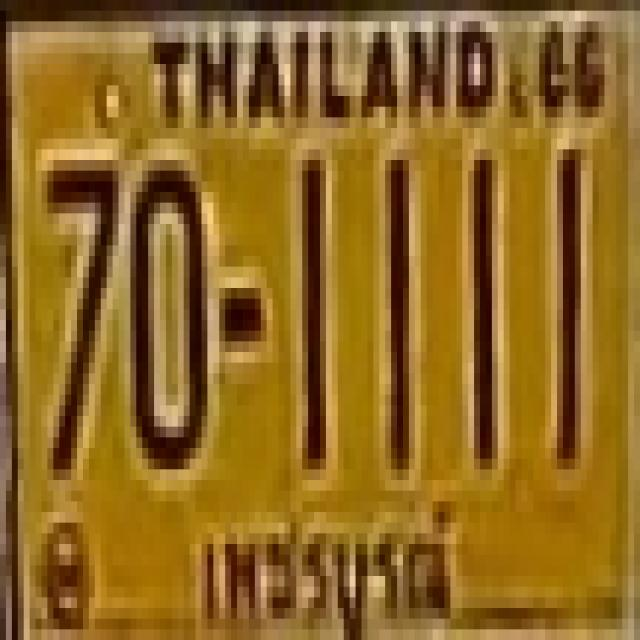0: (130, 160, 208, 459)
1: (560, 144, 584, 464), (391, 155, 415, 464), (302, 155, 326, 464), (471, 155, 495, 464)
7: (42, 160, 118, 469)
PNB: (185, 492, 473, 638)
